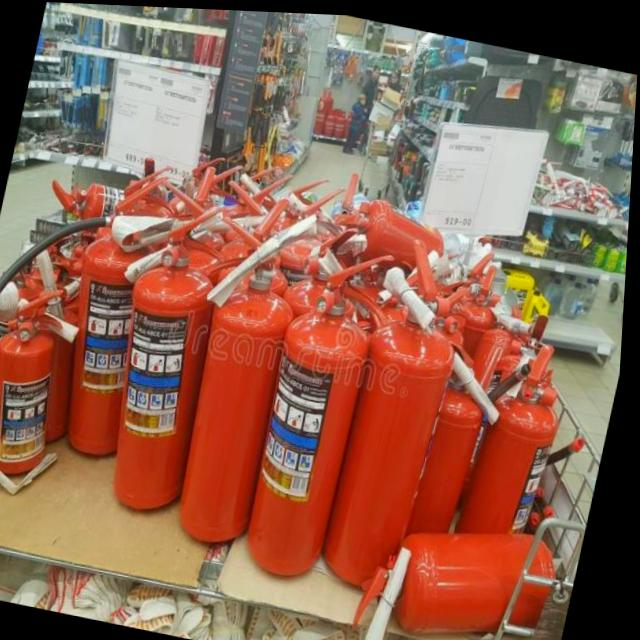FireExtinguisher: (312, 219, 491, 604), (232, 227, 415, 593), (150, 207, 338, 560), (0, 148, 195, 480), (86, 184, 263, 529), (442, 325, 592, 616), (351, 488, 587, 640), (437, 287, 556, 566), (395, 248, 515, 511), (393, 340, 500, 604), (0, 275, 90, 503), (325, 168, 480, 276), (44, 166, 185, 249)
